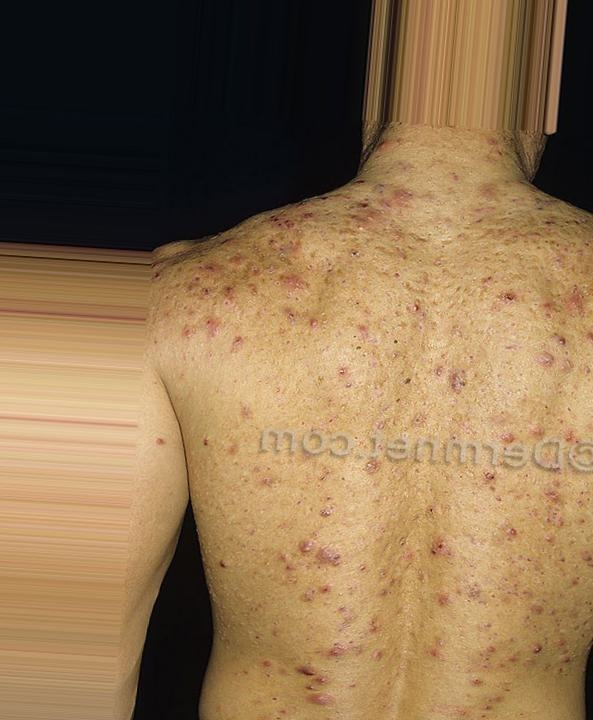Acne: (169, 136, 592, 709)
